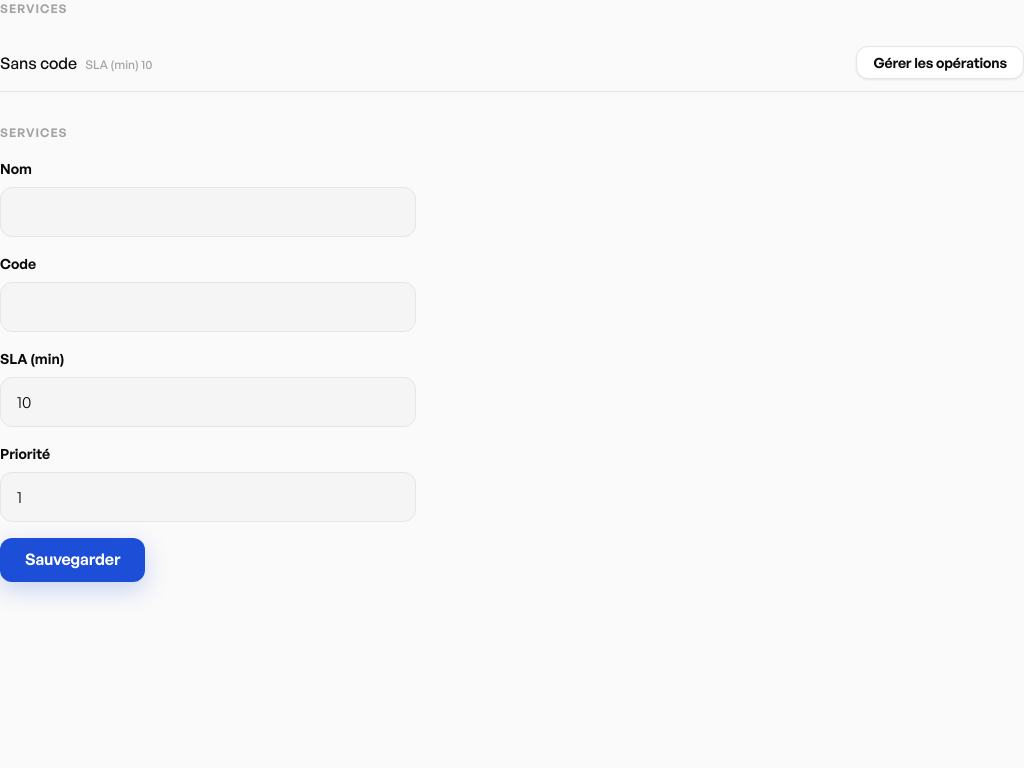
Test case: ServicesSection — sous-gestion par service › MODEL-WEB-A: service sans code + opérations non chargées (fallback []) + repli au 2e clic
Note: Déplie : pas d'opérations chargées → état empty (fallback []).
Click the button with test id "manage-operations-svc-2" at (940, 63), box [856,46,1023,79]
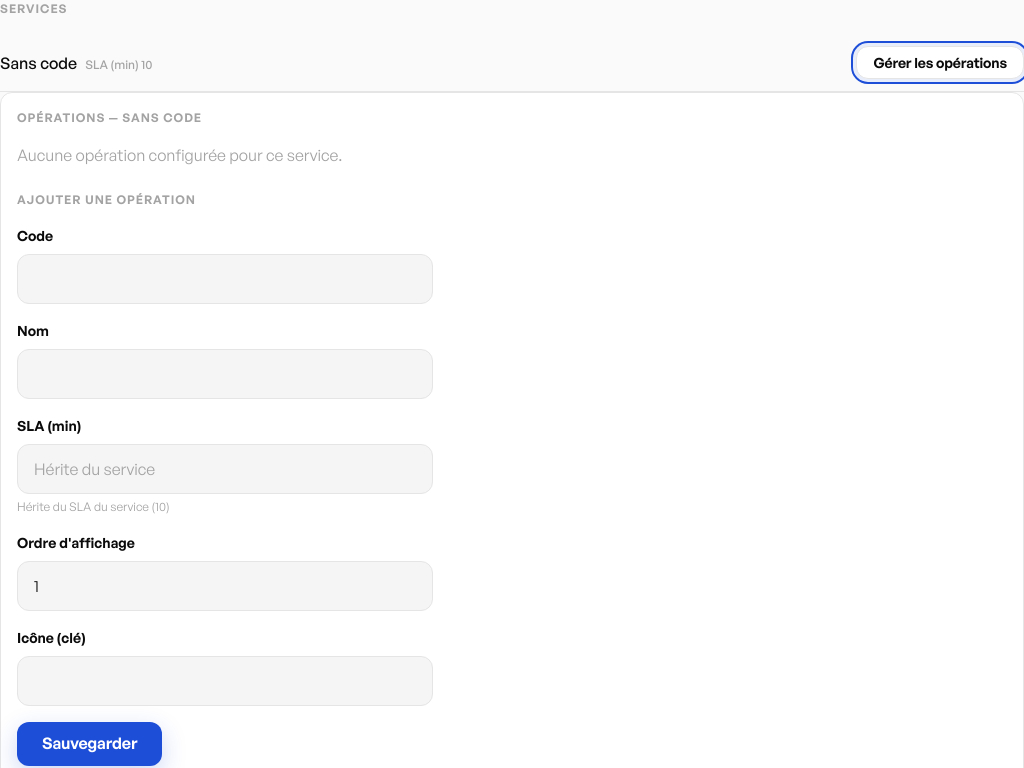
Now the element with test id "operations-section-svc-2" is shown, box [17,110,433,766]
Now the text "Aucune opération configurée pour ce service." is shown, box [17,145,342,165]
Note: 2e clic → repli.
Click the button with test id "manage-operations-svc-2" at (940, 63), box [856,46,1023,79]
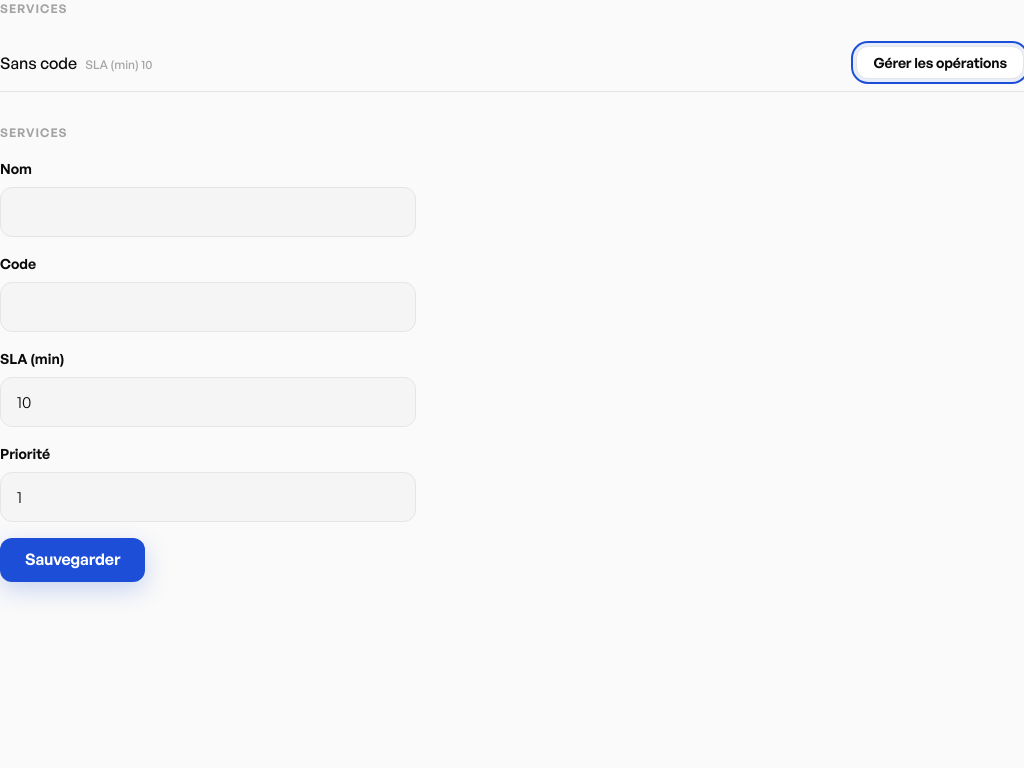
Now the element with test id "operations-section-svc-2" is gone
